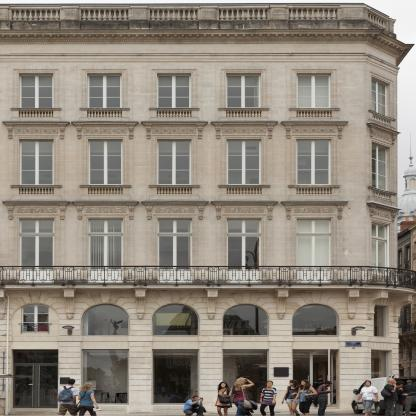Balcony: (1, 266, 416, 288)
Building Outline: (0, 3, 416, 415)
Cornice: (2, 199, 71, 220), (280, 199, 349, 220), (71, 199, 140, 220), (210, 199, 279, 220), (141, 199, 209, 220), (280, 120, 349, 139), (210, 120, 279, 139), (2, 120, 70, 139), (141, 120, 209, 139), (71, 120, 139, 139), (366, 121, 401, 144), (366, 200, 402, 221)
Deco: (366, 289, 392, 319), (393, 292, 415, 322), (62, 288, 76, 319), (206, 288, 220, 319), (277, 288, 291, 319), (348, 288, 362, 319), (134, 288, 147, 319), (292, 128, 336, 134), (15, 128, 59, 134), (83, 128, 127, 134), (152, 128, 196, 134), (222, 128, 266, 134), (15, 208, 58, 214), (293, 207, 335, 213), (224, 207, 266, 213), (154, 207, 196, 213), (85, 207, 127, 213), (373, 131, 391, 142), (373, 210, 390, 220)
Door: (293, 349, 340, 405), (14, 365, 58, 408), (297, 234, 332, 284), (20, 234, 55, 284), (89, 234, 124, 284), (158, 234, 193, 284), (227, 234, 262, 284)
Facade: (1, 44, 398, 416)
Floor: (1, 200, 398, 289), (1, 123, 398, 200), (0, 289, 399, 342)
Floor Slab: (0, 284, 399, 289), (0, 337, 399, 342), (0, 195, 398, 200), (0, 118, 397, 123)
Glass Wall: (82, 349, 129, 405), (152, 349, 199, 405), (222, 349, 269, 405), (371, 350, 393, 404)
Ground Floor: (0, 342, 399, 416)
Molding: (0, 34, 409, 65)
Sill: (368, 110, 396, 121), (368, 186, 397, 195), (10, 185, 63, 188), (218, 185, 271, 188), (218, 108, 270, 111), (288, 185, 340, 188), (149, 185, 201, 188), (80, 185, 132, 188), (289, 108, 340, 111), (11, 108, 61, 111), (80, 108, 130, 111), (149, 108, 199, 111)
Top Floor: (1, 41, 398, 123)
Window: (19, 139, 54, 185), (297, 139, 332, 185), (227, 139, 262, 185), (157, 139, 192, 185), (88, 139, 123, 185), (292, 303, 339, 336), (152, 303, 199, 336), (82, 304, 129, 336), (222, 304, 269, 336), (19, 73, 54, 108), (87, 73, 122, 108), (226, 73, 261, 108), (297, 73, 331, 108), (157, 73, 191, 108), (372, 220, 391, 277), (372, 141, 390, 192), (21, 303, 49, 334), (372, 76, 391, 118), (14, 350, 58, 365), (297, 218, 332, 234), (20, 218, 55, 234), (89, 218, 124, 234), (158, 218, 193, 234), (227, 218, 262, 234), (374, 305, 386, 338)
dont: (351, 375, 416, 416), (281, 375, 333, 411), (56, 378, 101, 416), (214, 377, 258, 411), (259, 380, 277, 411), (182, 395, 207, 416)
